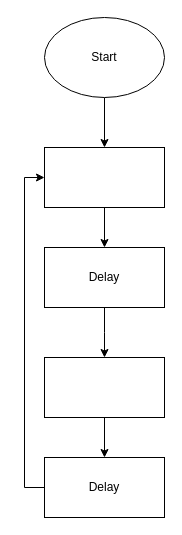
The diagram is 182 pixels wide and 535 high, and some of its shapes have lost their labels. Each missing label, with the box of its shape:
Turn LED Off: (44, 356, 164, 418)
Turn LED On: (44, 146, 164, 208)
